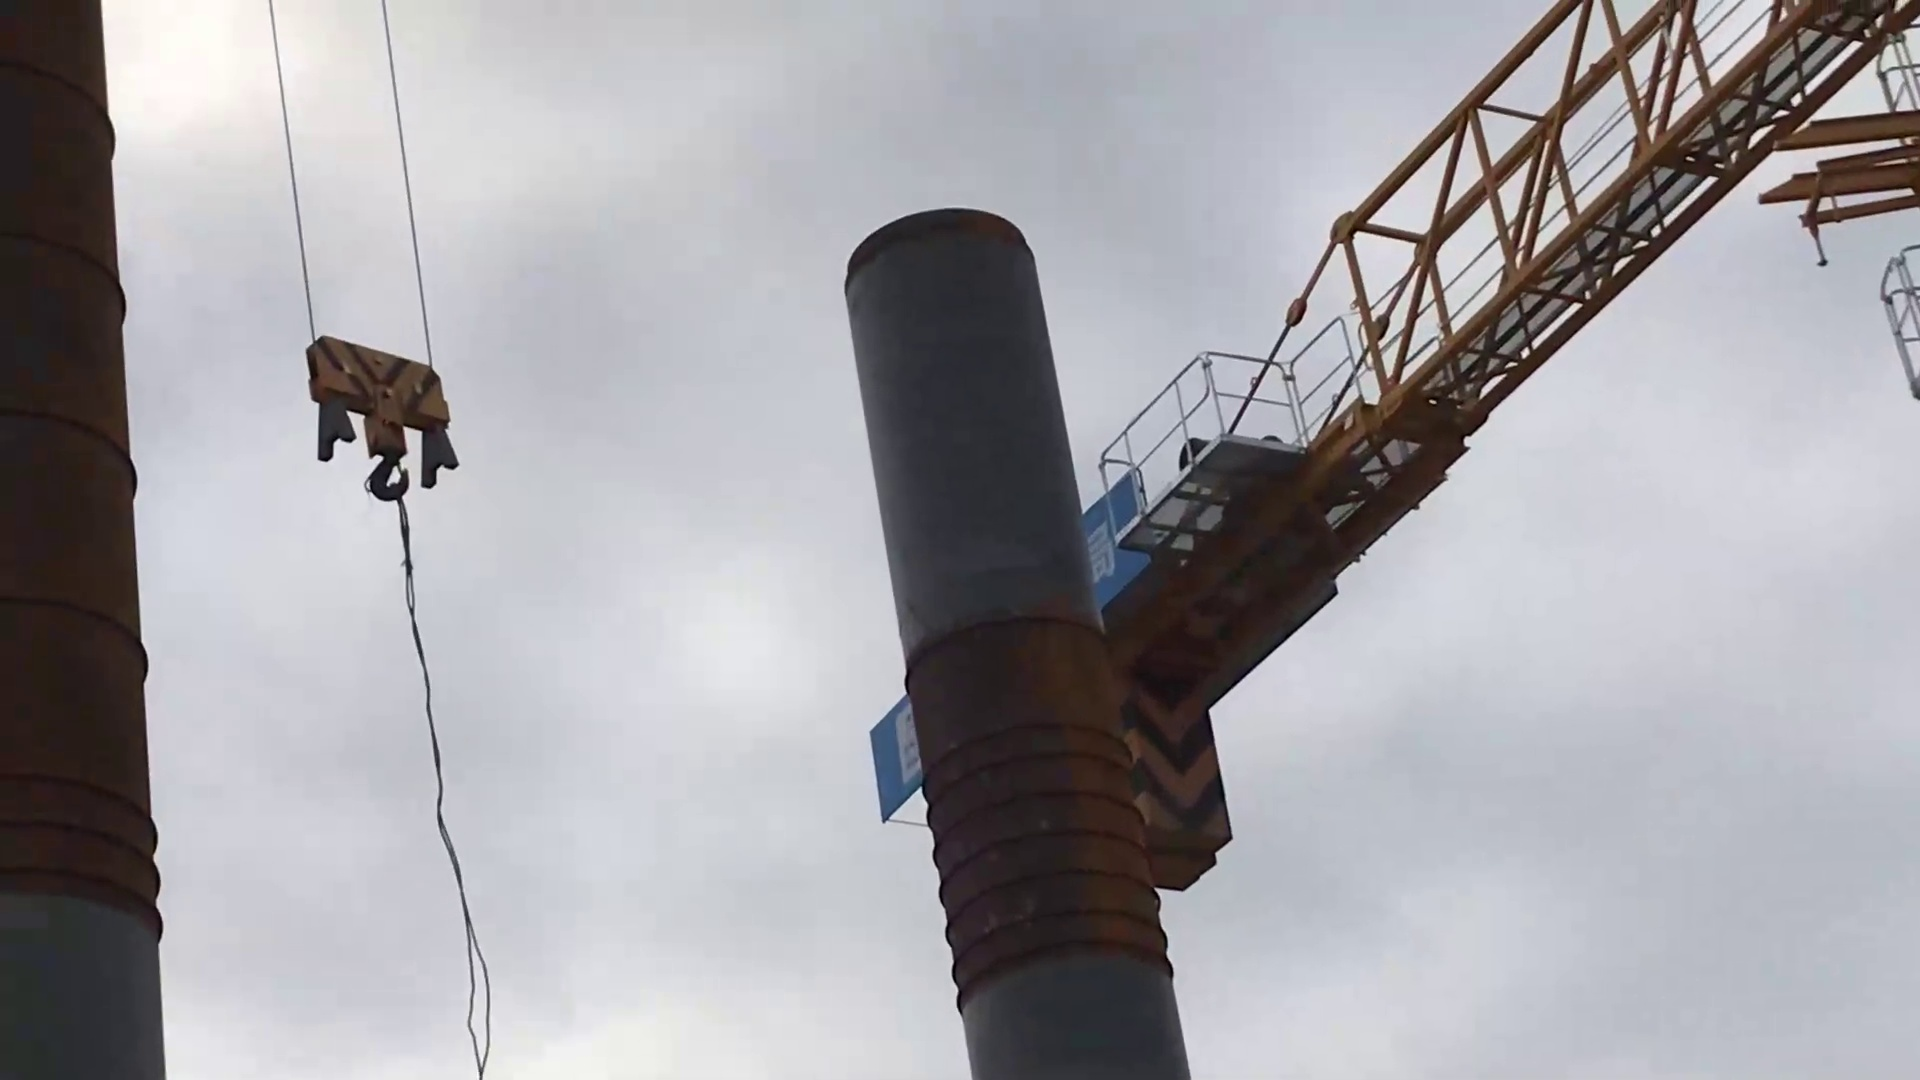hook: (285, 326, 491, 513)
